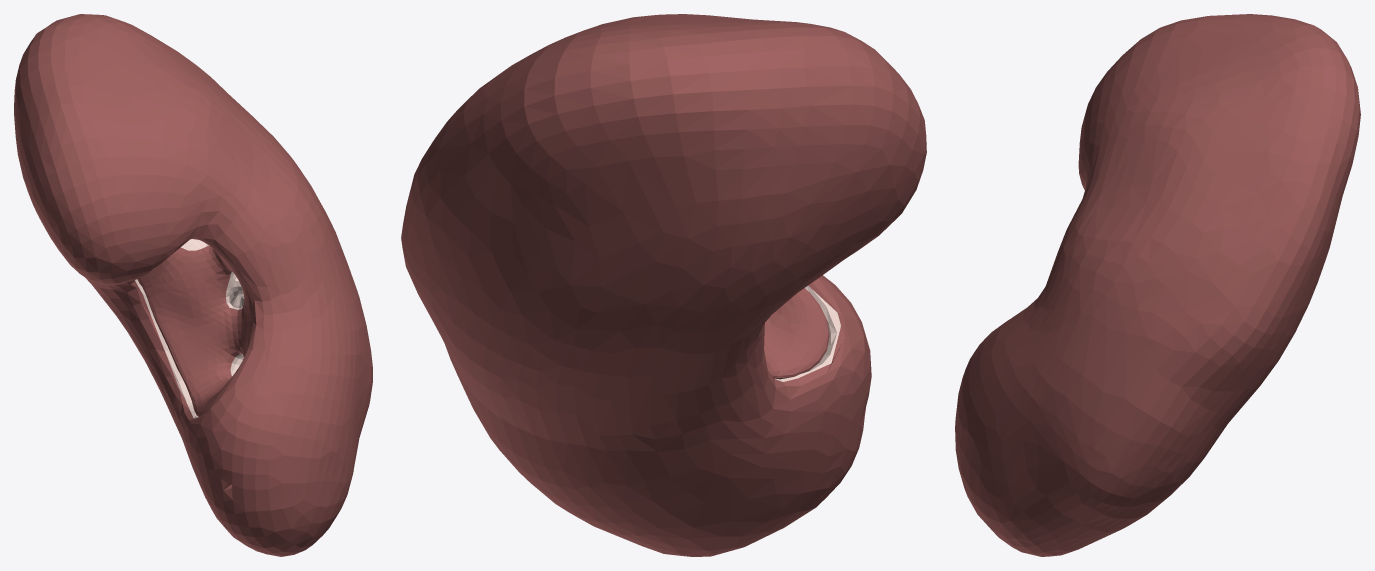
Rendered from VH_M_Kidney_L_0.4.glb.
3 renders of one model, left to right at view 1: azimuth 30°, elevation 25°; view 2: azimuth 150°, elevation 25°; view 3: azimuth 270°, elevation 25°, orthographic. The views are drawn at different scales.
Parts seen in each view (by area): view 1: VH_M_kidney_capsule_L, VH_M_hilum_of_kidney_L, VH_M_renal_column_L, VH_M_outer_cortex_of_kidney_L; view 2: VH_M_kidney_capsule_L, VH_M_hilum_of_kidney_L, VH_M_outer_cortex_of_kidney_L; view 3: VH_M_kidney_capsule_L.
Part boxes in pixels (bbox=[...]): VH_M_kidney_capsule_L: bbox=[14, 14, 372, 556]; VH_M_hilum_of_kidney_L: bbox=[137, 238, 253, 416]; VH_M_renal_column_L: bbox=[181, 239, 244, 376]; VH_M_outer_cortex_of_kidney_L: bbox=[135, 279, 198, 418]; VH_M_kidney_capsule_L: bbox=[401, 14, 926, 556]; VH_M_hilum_of_kidney_L: bbox=[764, 288, 829, 379]; VH_M_outer_cortex_of_kidney_L: bbox=[774, 286, 840, 381]; VH_M_kidney_capsule_L: bbox=[955, 14, 1360, 556].
Bounding box in the file's own units: 0.0757 × 0.1065 × 0.0824.
